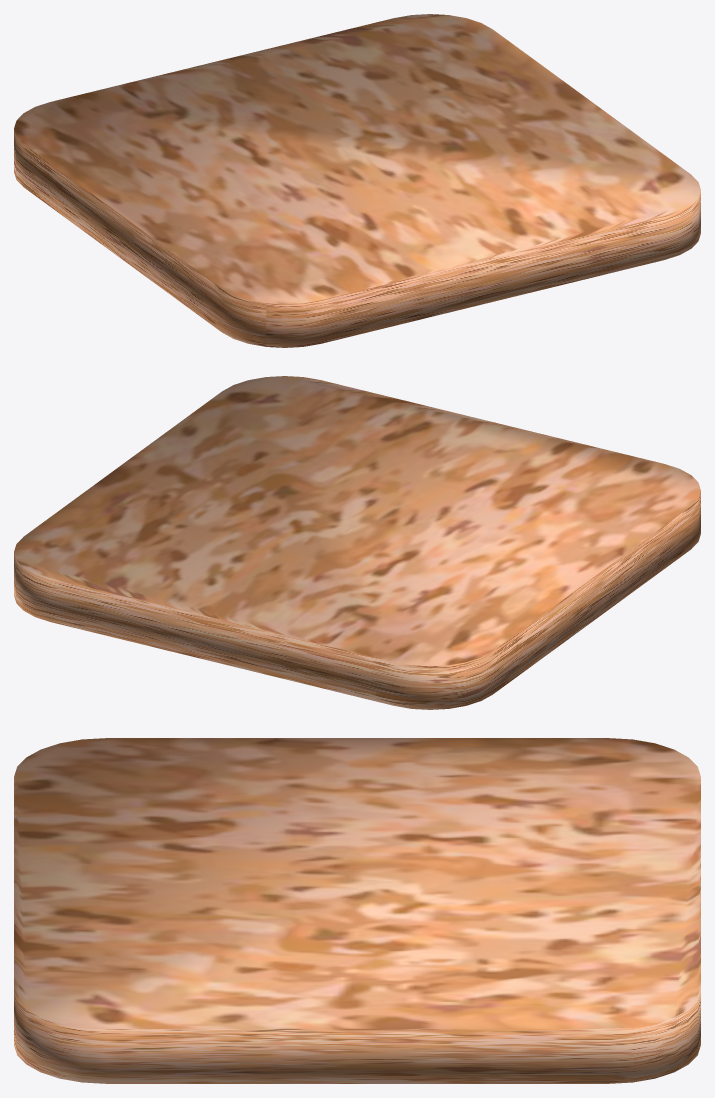
The model's file is coaster.glb.
3 views of the same model, one above another, from view 1: azimuth 30°, elevation 25°; view 2: azimuth 150°, elevation 25°; view 3: azimuth 270°, elevation 25° (orthographic). The views are drawn at different scales.
Parts seen in each view (by area): view 1: CorkCoaster; view 2: CorkCoaster; view 3: CorkCoaster.
Boxes of the visible parts, left/top/right/bottom form: CorkCoaster: left=14, top=14, right=700, bottom=347; CorkCoaster: left=14, top=376, right=700, bottom=709; CorkCoaster: left=14, top=738, right=700, bottom=1083.
Bounding box in the file's own units: 0.09 × 0.008 × 0.09.
Materials: 1 (1 with a texture image).
